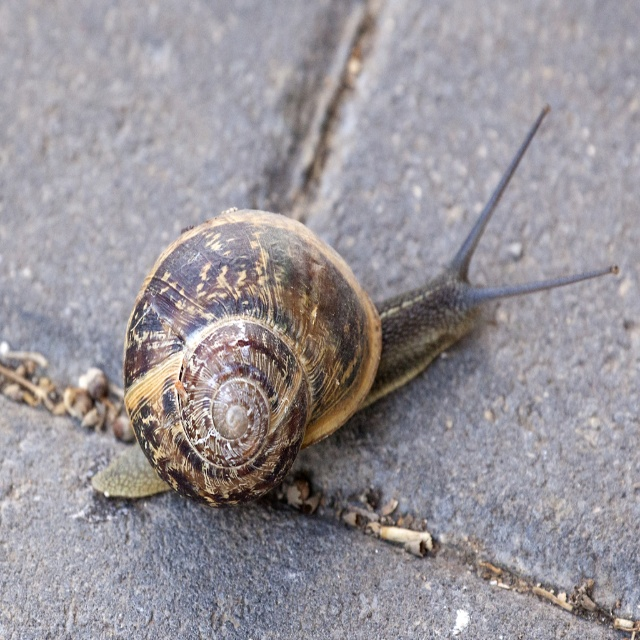Snail: (120, 101, 620, 515)
